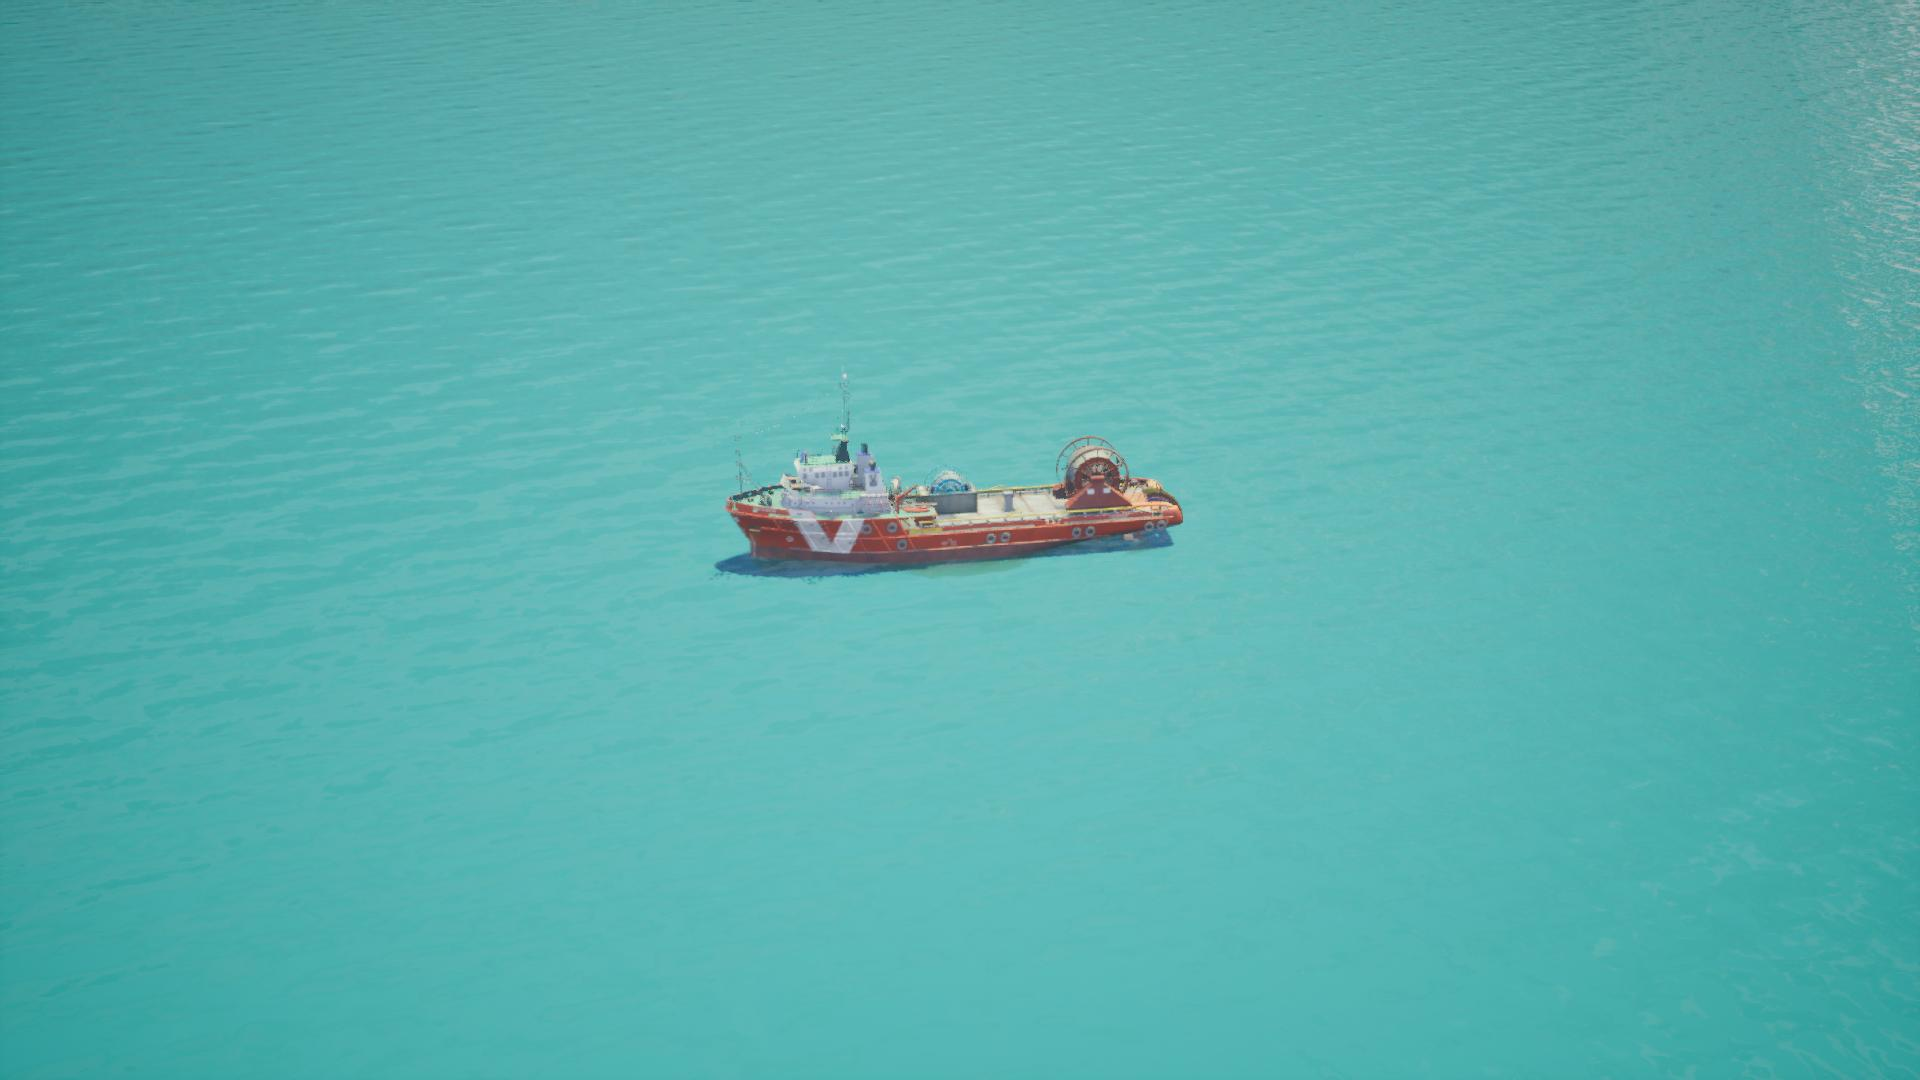Tug Boat: (713, 367, 1187, 578)
